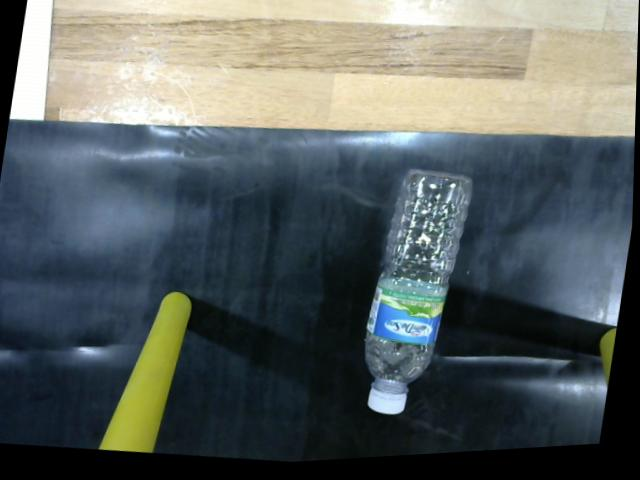bottle: (363, 171, 476, 424)
